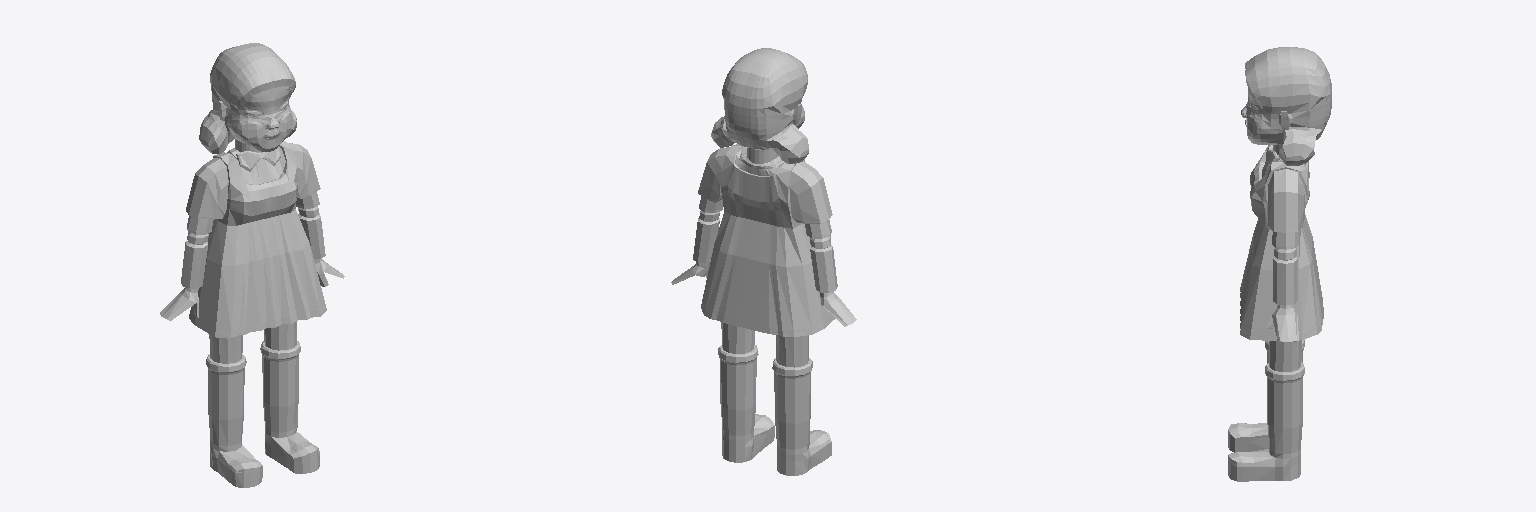
The model's file is doll.obj.
3 renders of one model, left to right at view 1: azimuth 30°, elevation 25°; view 2: azimuth 150°, elevation 25°; view 3: azimuth 270°, elevation 25°, orthographic.
Parts seen in each view (by area): view 1: Body_Cube.002, DollHead_Cube.001, BowTie_Cube.003; view 2: Body_Cube.002, DollHead_Cube.001; view 3: Body_Cube.002, DollHead_Cube.001.
Part boxes in pixels (x1,y1,x2,y2): Body_Cube.002: (160, 141, 344, 487); DollHead_Cube.001: (199, 43, 296, 153); BowTie_Cube.003: (236, 146, 280, 171); Body_Cube.002: (671, 144, 856, 475); DollHead_Cube.001: (711, 48, 808, 163); Body_Cube.002: (1228, 145, 1323, 481); DollHead_Cube.001: (1241, 47, 1331, 165).
Size of the model in its own units: 1.21 by 2.65 by 0.6102.